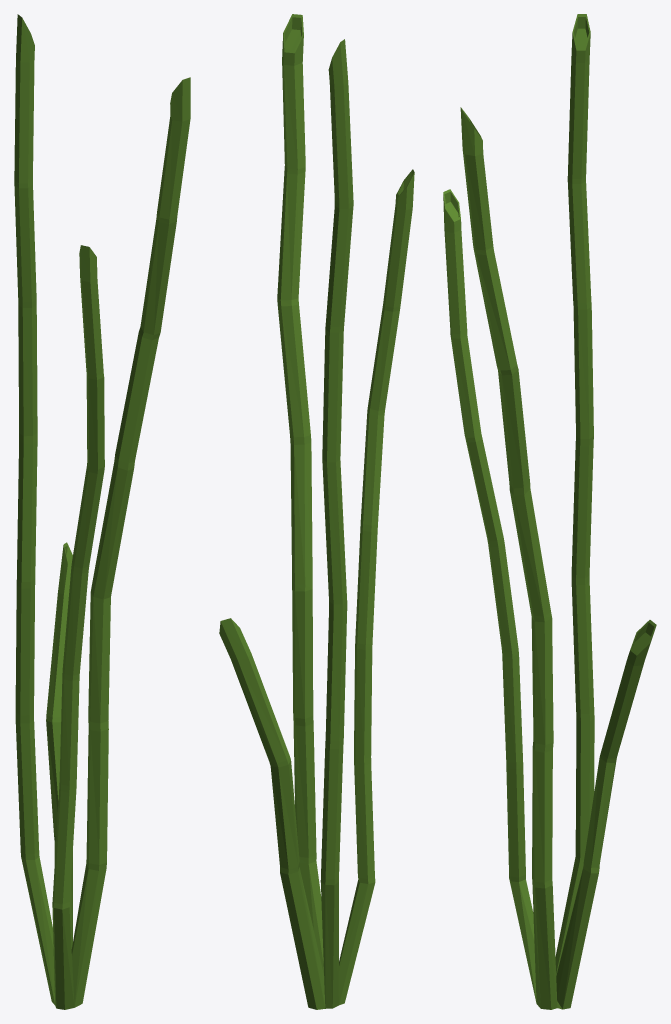
The model's file is bamboo5.obj.
3 views of the same model, side by side, from view 1: azimuth 30°, elevation 25°; view 2: azimuth 150°, elevation 25°; view 3: azimuth 270°, elevation 25° (orthographic).
Size of the model in its own units: 1.91 by 14.83 by 2.94.
